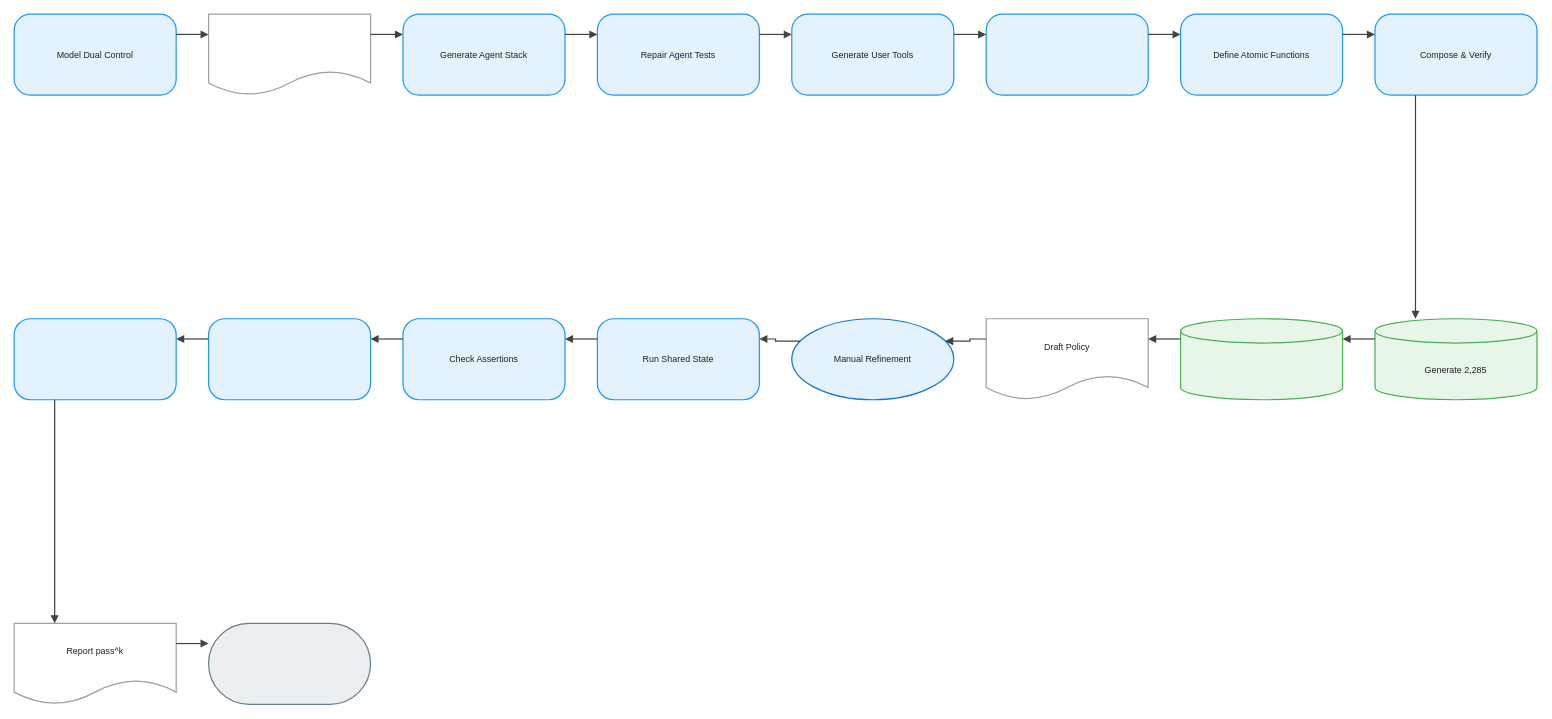
The diagram is 1552 pixels wide and 719 high, and some of its shapes have lost their labels. Each missing label, with the centre of its shape:
4 Trials at T=0: the point at 289,359
Aggregate 279: the point at 289,663
Balance 114: the point at 1261,359
Draft PRD: the point at 289,54
No-user Ablation: the point at 94,359
Repair User Tests: the point at 1066,54
